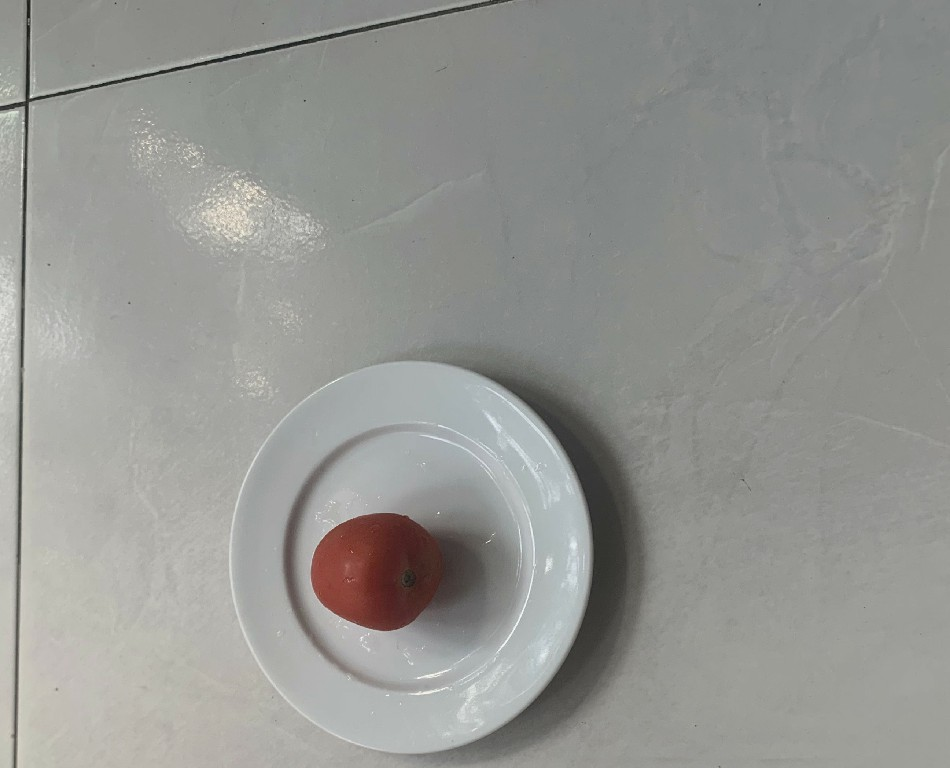OK: (305, 509, 446, 636)
